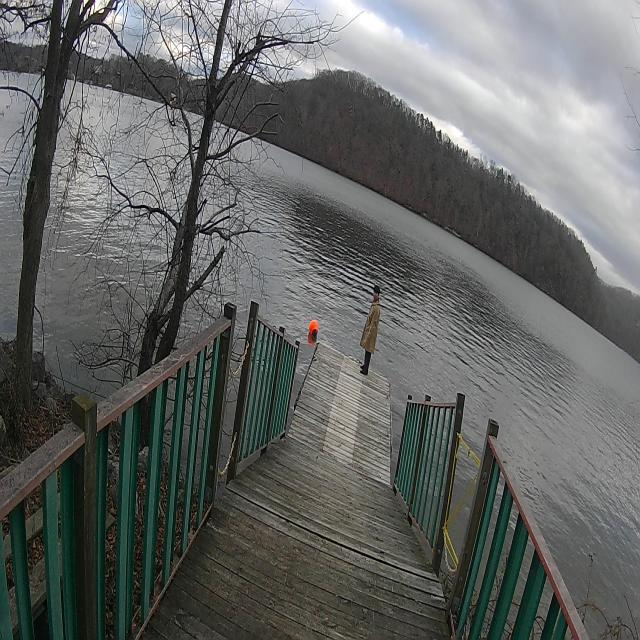Buoy: (308, 314, 320, 342)
